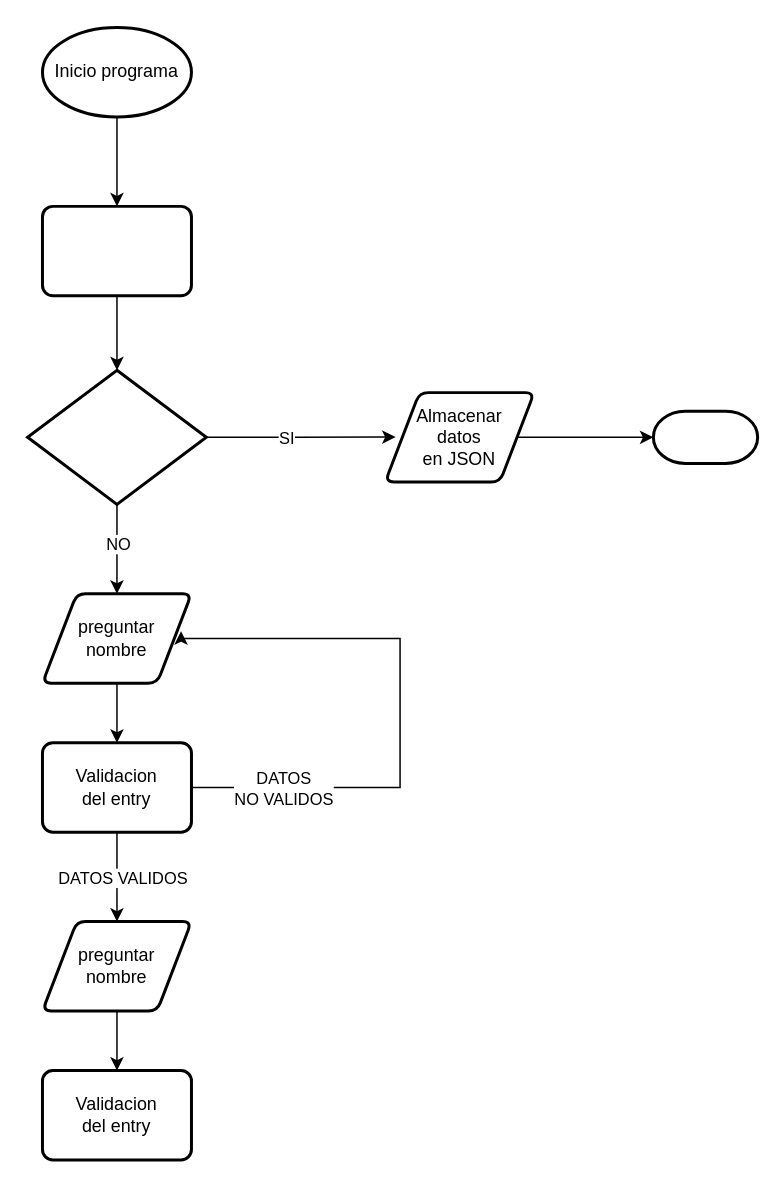
This 784x1186 diagram has some shape labels left out. Here are the shapes that lost their labels. From the top down, the box of each, then its label:
(40, 204, 192, 297): Comenzar bucle de insercion de datos
(25, 368, 207, 505): usuario escribe exit en cualquier campo
(651, 409, 758, 464): Salir
